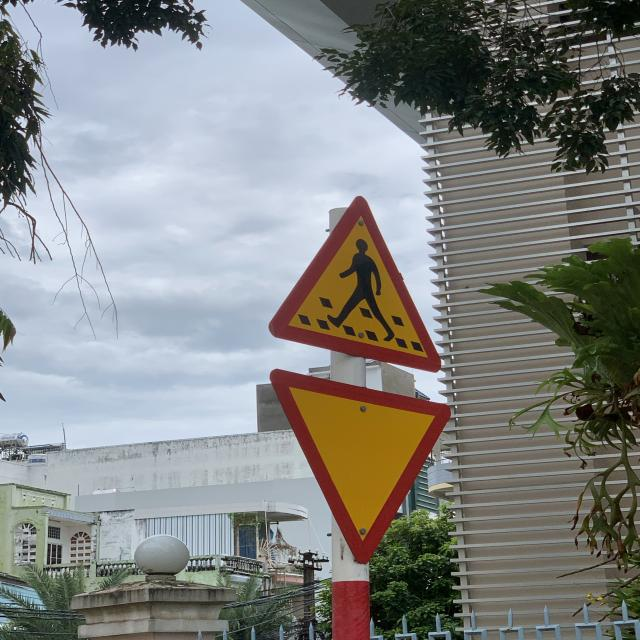Duong_Nguoi_Di_Bo_Sang_Ngang: (269, 194, 439, 370)
Gioi_Han_Toc_Do_25: (270, 368, 448, 564)
